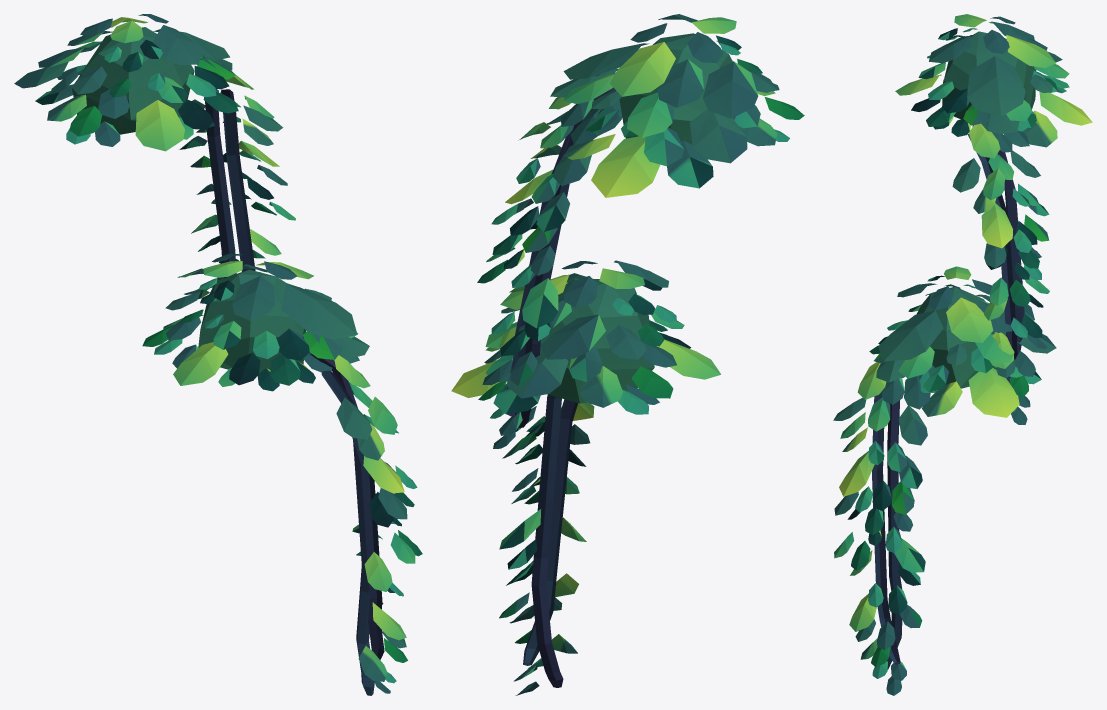
Rendered from Bush_Vines04.fbx.
3 views of the same model, side by side, from view 1: azimuth 30°, elevation 25°; view 2: azimuth 150°, elevation 25°; view 3: azimuth 270°, elevation 25° (orthographic). The views are drawn at different scales.
Parts seen in each view (by area): view 1: Vines (Long).001; view 2: Vines (Long).001; view 3: Vines (Long).001.
Boxes of the visible parts, x1,y1,x2,y2 form: Vines (Long).001: (14, 14, 422, 695); Vines (Long).001: (451, 14, 804, 695); Vines (Long).001: (833, 14, 1092, 695).
Bounding box in the file's own units: 91.86 × 201 × 80.68.
